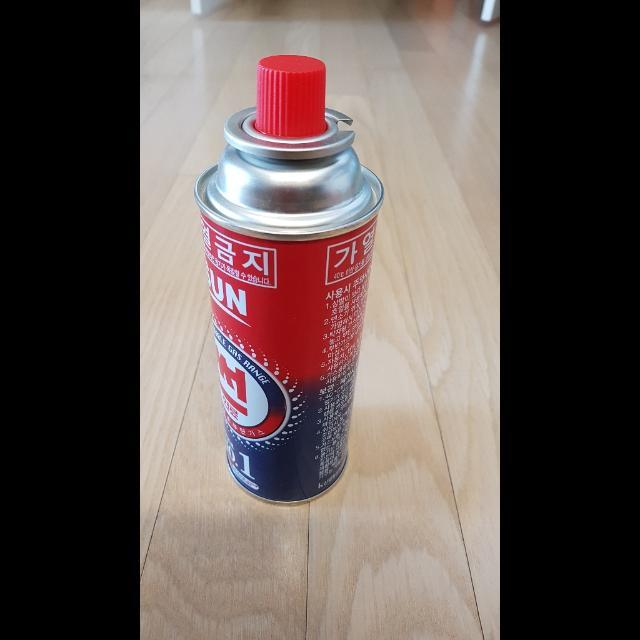chemical_spray_can: (194, 43, 396, 521)
